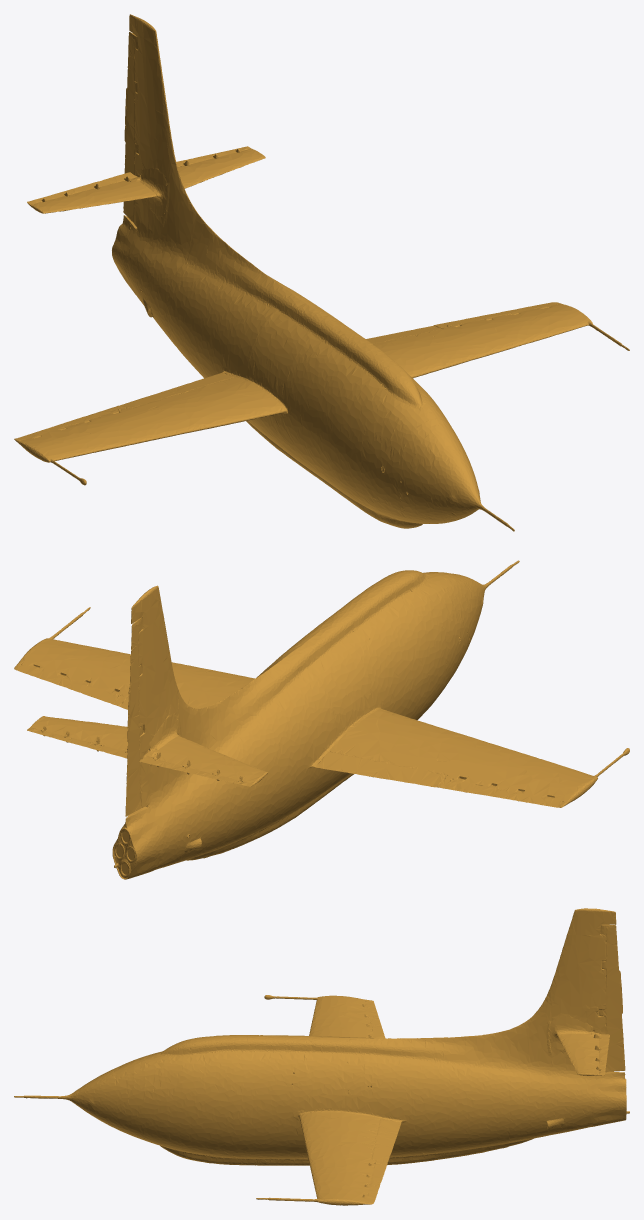
Rendered from Magnificent Densor.glb.
The picture shows the model from 3 angles, top to bottom: view 1: azimuth 30°, elevation 25°; view 2: azimuth 150°, elevation 25°; view 3: azimuth 270°, elevation 25°; orthographic projection. The views are drawn at different scales.
Parts seen in each view (by area): view 1: Mesh_Mesh_head_geo.001_lambert2SG.001; view 2: Mesh_Mesh_head_geo.001_lambert2SG.001; view 3: Mesh_Mesh_head_geo.001_lambert2SG.001.
Part boxes in pixels (box(x1,y1,x2,y2)): Mesh_Mesh_head_geo.001_lambert2SG.001: box(14, 14, 629, 531); Mesh_Mesh_head_geo.001_lambert2SG.001: box(14, 560, 629, 879); Mesh_Mesh_head_geo.001_lambert2SG.001: box(14, 908, 629, 1205).
Size of the model in its own units: 0.0596 by 0.0339 by 0.074.
